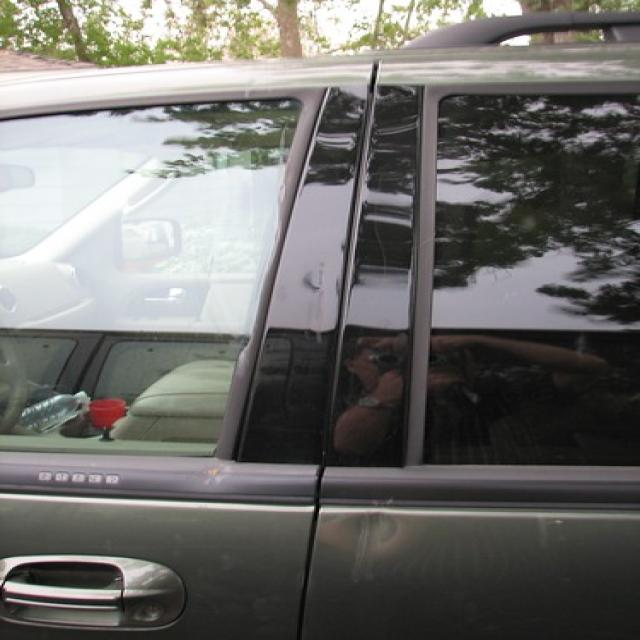dent: (320, 502, 404, 553)
